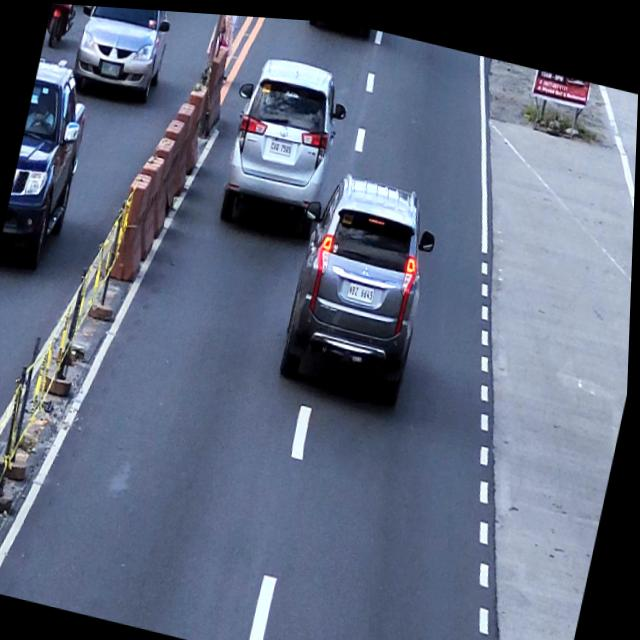Car: (271, 157, 446, 403), (212, 43, 355, 240), (0, 51, 99, 274), (66, 4, 178, 104)
License-Plate: (347, 277, 377, 299), (269, 133, 294, 153), (99, 59, 121, 77)
Motorcycle: (42, 2, 86, 53)
